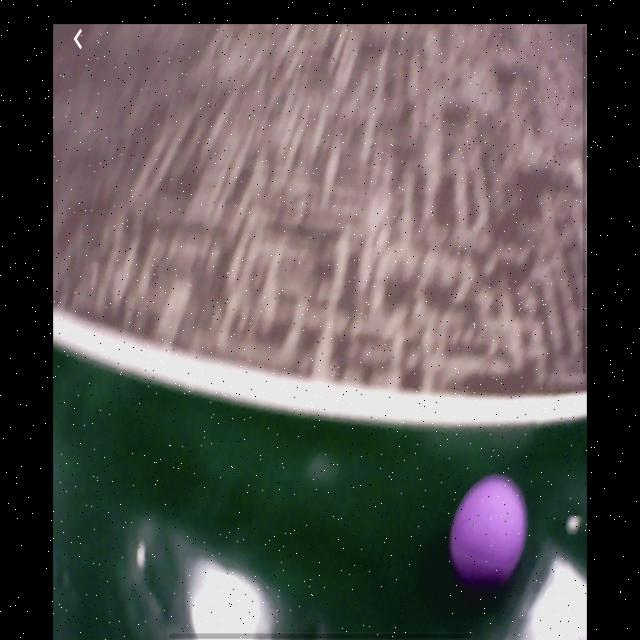ball: (450, 474, 530, 589)
